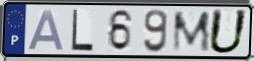6: (105, 9, 134, 54)
9: (143, 8, 170, 54)
A: (26, 9, 66, 52)
L: (70, 8, 96, 53)
M: (171, 9, 213, 54)
U: (206, 8, 250, 56)
